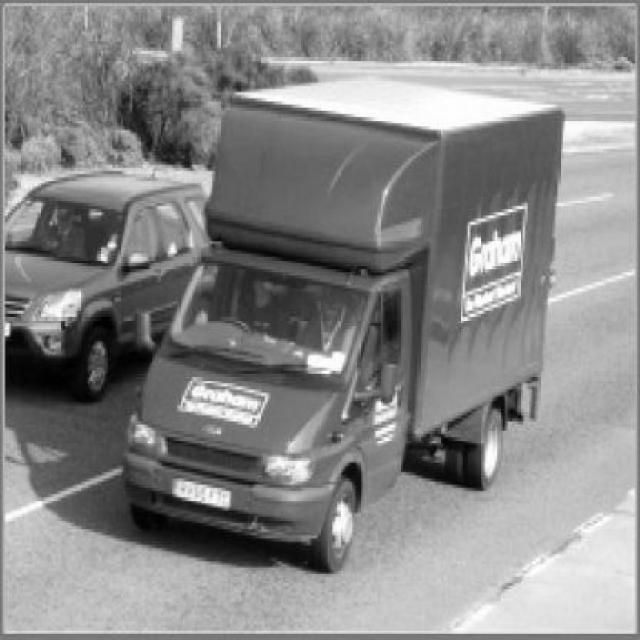Box Truck: (121, 75, 565, 576)
SUV: (5, 172, 209, 403)
